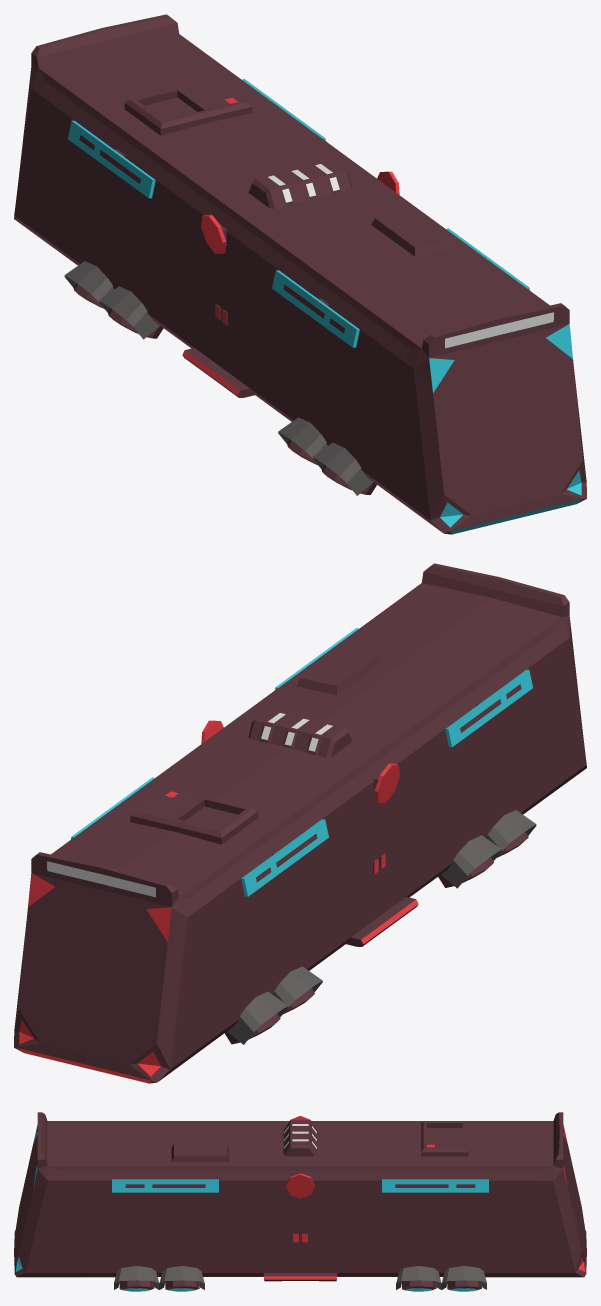
File: scifi-public-transport.fbx
3 renders of one model, top to bottom at view 1: azimuth 30°, elevation 25°; view 2: azimuth 150°, elevation 25°; view 3: azimuth 270°, elevation 25°, orthographic. The views are drawn at different scales.
Parts seen in each view (by area): view 1: scifi-public-transport; view 2: scifi-public-transport; view 3: scifi-public-transport.
Part boxes in pixels (x1,y1,x2,y2): scifi-public-transport: (14, 14, 586, 534); scifi-public-transport: (14, 563, 586, 1083); scifi-public-transport: (14, 1112, 586, 1291).
Size of the model in its own units: 3.07 by 3.11 by 11.52.
